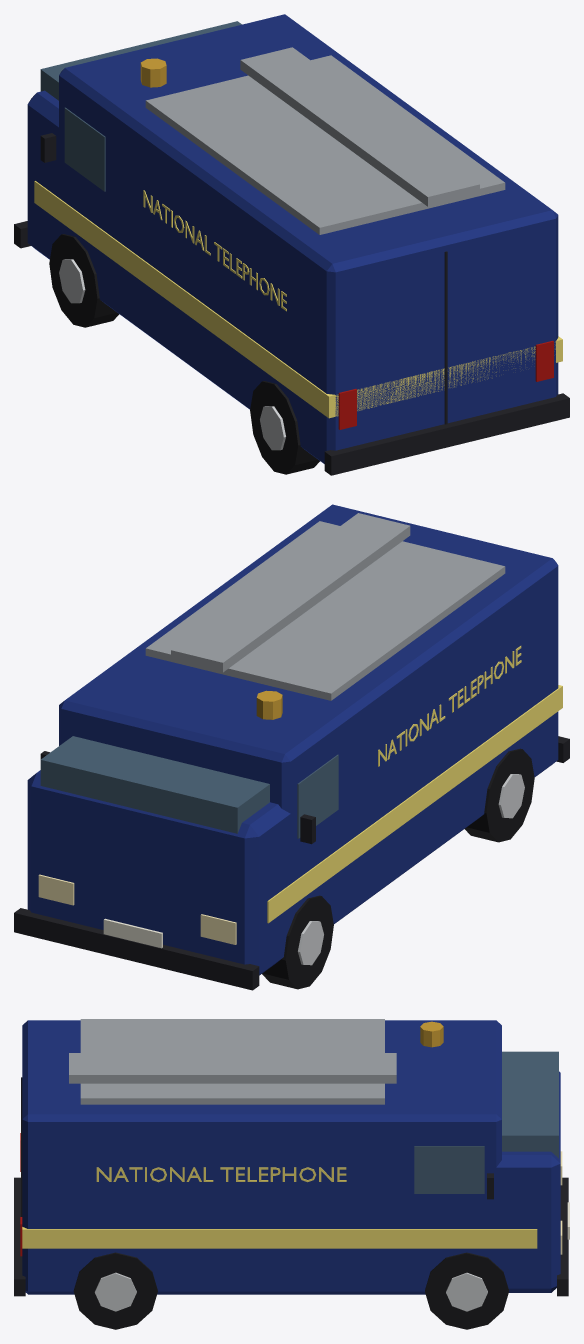
File: vehicle.nez-van.glb
The picture shows the model from 3 angles, top to bottom: view 1: azimuth 30°, elevation 25°; view 2: azimuth 150°, elevation 25°; view 3: azimuth 270°, elevation 25°; orthographic projection. The views are drawn at different scales.
Parts seen in each view (by area): view 1: body, roof-rack, ladder, stripe, bumper-b, cab, wheel-1-1, wheel-11, side-window-1, windscreen, letter-1, hub-1-1 (+5 smaller); view 2: body, cab, roof-rack, windscreen, ladder, stripe, bumper-f, wheel-1-1, wheel-11, side-window-1, letter-1, plate-f (+5 smaller); view 3: body, roof-rack, stripe, ladder, cab, windscreen, wheel11, wheel1-1, side-window1, letter1, hub11, hub1-1 (+3 smaller).
Part boxes in pixels (x1,y1,x2,y2): body: [59, 14, 558, 463]; roof-rack: [145, 55, 505, 234]; ladder: [240, 47, 479, 206]; stripe: [34, 181, 562, 418]; bumper-b: [324, 393, 569, 475]; cab: [27, 90, 63, 259]; wheel-1-1: [49, 234, 119, 327]; wheel-11: [250, 381, 319, 474]; side-window-1: [64, 107, 105, 191]; windscreen: [40, 21, 241, 100]; letter-1: [143, 190, 286, 311]; hub-1-1: [59, 259, 85, 303]; body: [59, 504, 558, 924]; cab: [27, 770, 295, 975]; roof-rack: [145, 521, 505, 700]; windscreen: [40, 736, 269, 833]; ladder: [171, 513, 410, 672]; stripe: [267, 685, 562, 923]; bumper-f: [14, 908, 259, 990]; wheel-1-1: [262, 895, 333, 989]; wheel-11: [465, 748, 534, 842]; side-window-1: [297, 754, 338, 838]; letter-1: [378, 646, 521, 766]; plate-f: [103, 918, 162, 948]; body: [22, 1020, 501, 1294]; roof-rack: [80, 1019, 384, 1104]; stripe: [22, 1227, 537, 1248]; ladder: [69, 1053, 396, 1083]; cab: [488, 1071, 560, 1292]; windscreen: [502, 1051, 558, 1158]; wheel11: [73, 1252, 157, 1329]; wheel1-1: [425, 1252, 508, 1329]; side-window1: [414, 1146, 484, 1193]; letter1: [96, 1167, 346, 1182]; hub11: [94, 1272, 136, 1311]; hub1-1: [446, 1272, 487, 1311].
Size of the model in its own units: 2.34 by 2.17 by 4.75.
